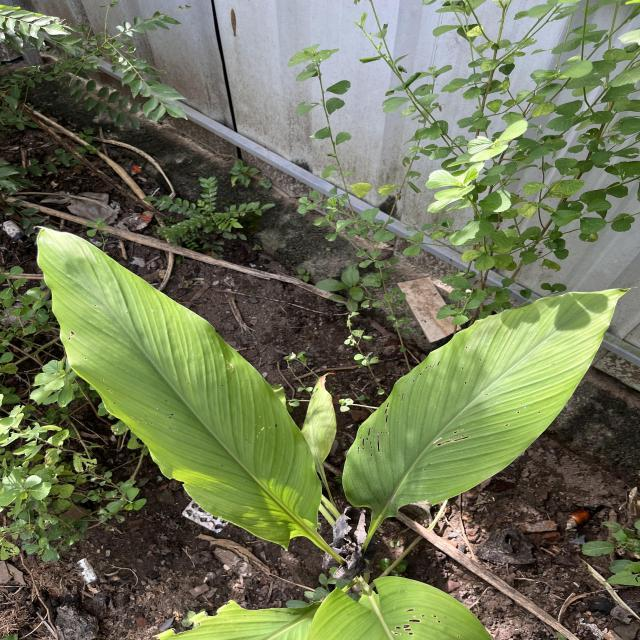Curcuma longa: (29, 220, 326, 549), (339, 281, 640, 521)
